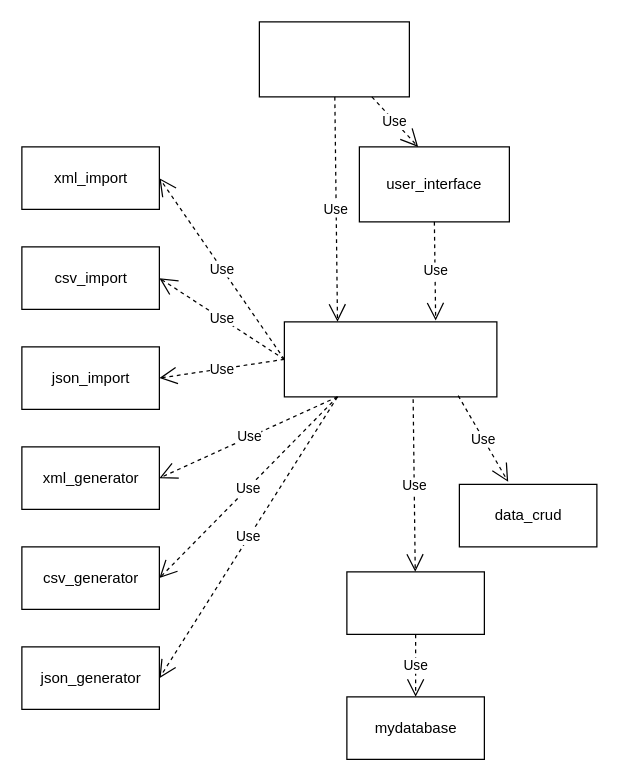
This 619x781 diagram has some shape labels left out. The shapes that lost their labels are listed below. From the top down, each one's centre as x and y in pixels, then its label:
At point 333,59: "main".
At point 390,359: "controller".
At point 415,602: "db".
